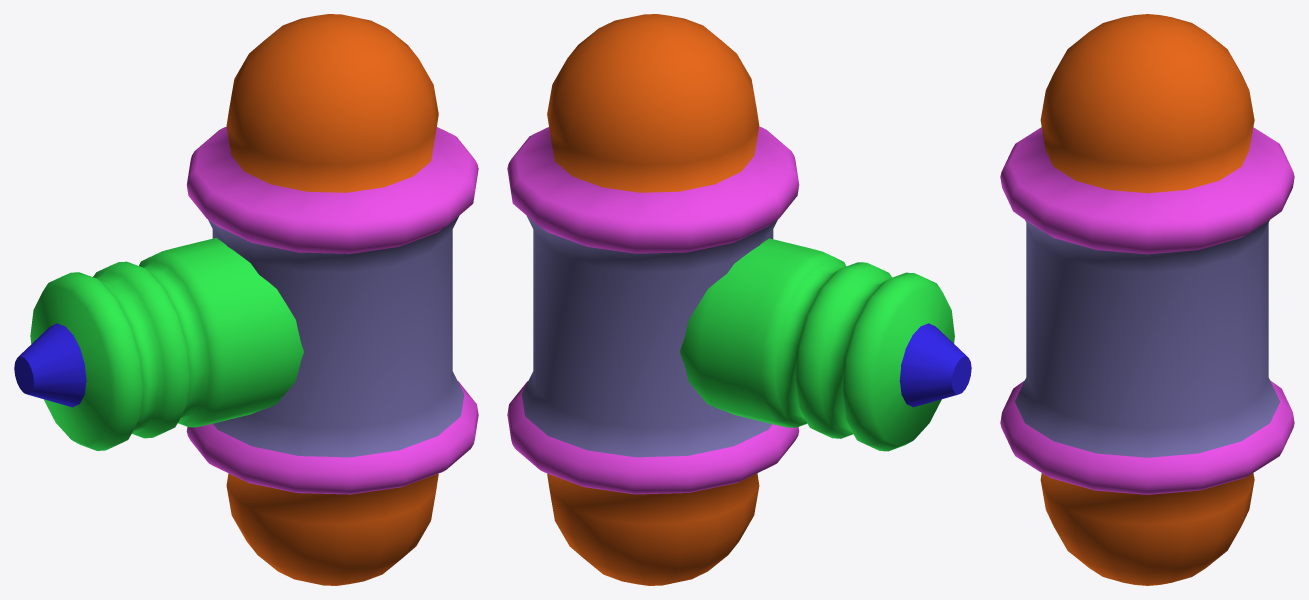
The model's file is Laser.fbx.
3 views of the same model, side by side, from view 1: azimuth 30°, elevation 25°; view 2: azimuth 150°, elevation 25°; view 3: azimuth 270°, elevation 25° (orthographic).
Visible parts, largest first — view 1: Laser_01, Cylinder.010; view 2: Laser_01, Cylinder.010; view 3: Laser_01.
Boxes of the visible parts, bbox=[...] form: Laser_01: bbox=[186, 14, 478, 585]; Cylinder.010: bbox=[14, 238, 303, 450]; Laser_01: bbox=[507, 14, 799, 585]; Cylinder.010: bbox=[680, 238, 971, 451]; Laser_01: bbox=[1000, 14, 1294, 585].
Bounding box in the file's own units: 151 × 184 × 88.44.
